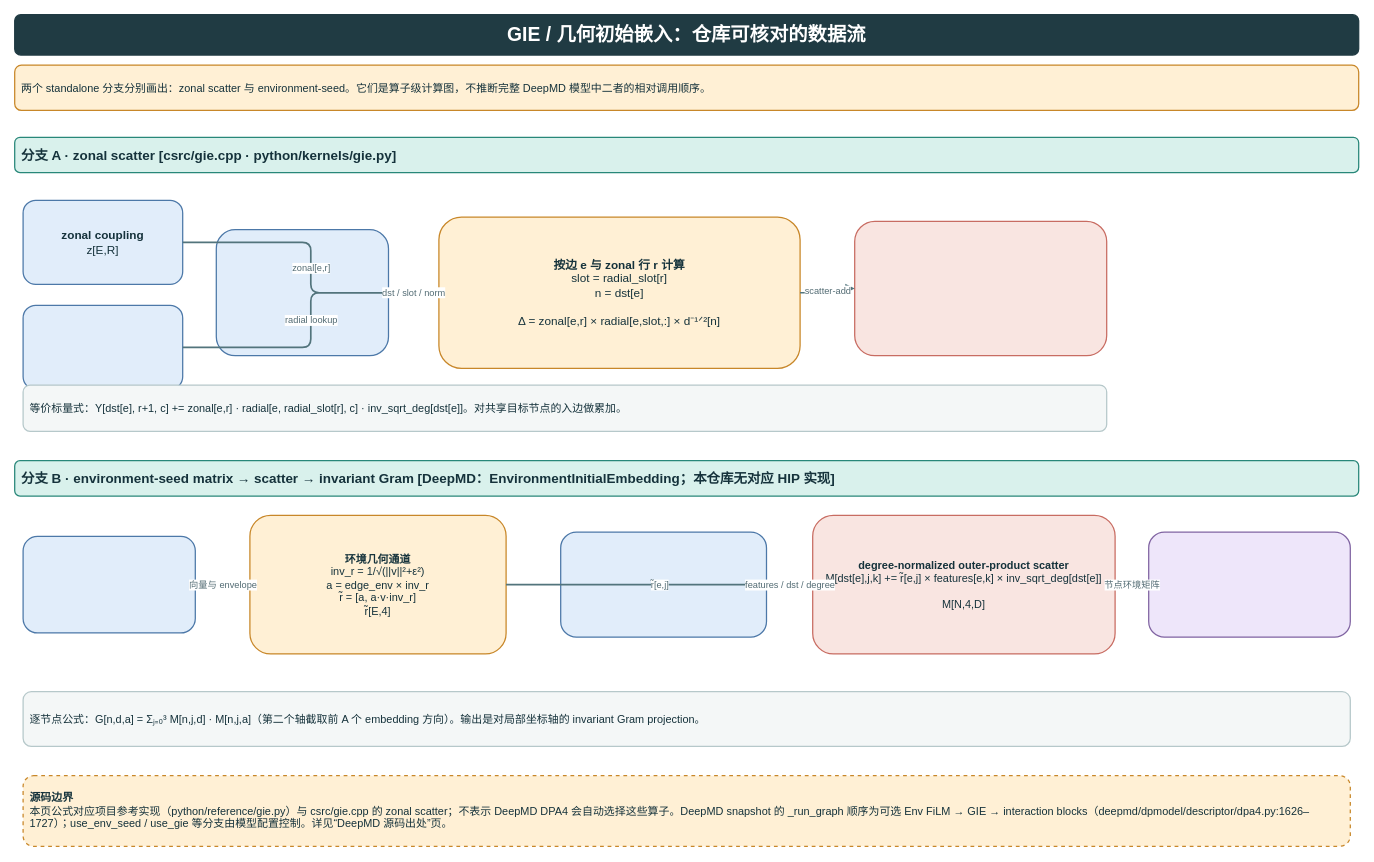
Image size: 1374x862. Some labels were removed from this diagram. Here are the shapes that lost their labels. From the top down, the centre of each, then its label:
the point at 302,292: 索引 / 归一化 dst[E] radial_slot[R] d⁻¹ᐟ²[N]
the point at 980,288: 目标节点累加 Y[N,R+1,C]，初始化为 0 Y[n,r+1,:] += Δ r=0 留作保留行
the point at 102,347: radial features radial[E,S,C]
the point at 109,584: 边几何 edge_vec[E,3] edge_env[E,1]
the point at 663,584: 边 embedding 与索引 features[E,D] dst[E] inv_sqrt_deg[N]
the point at 1249,584: 不变量 Gram 投影 G = Mᵀ · M[..., :A] G[N,D,A] A = axis_dim ≤ D
